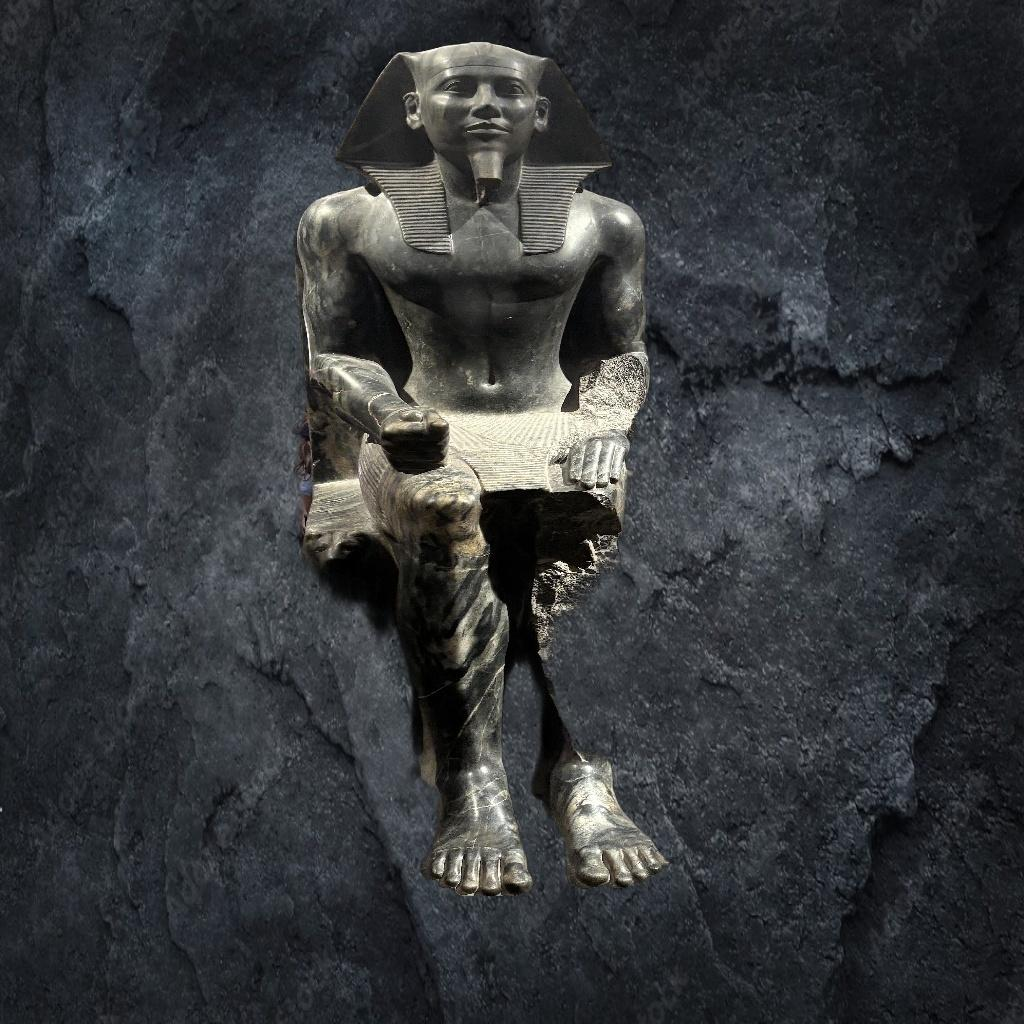Statue of Khafre: (290, 42, 682, 896)
